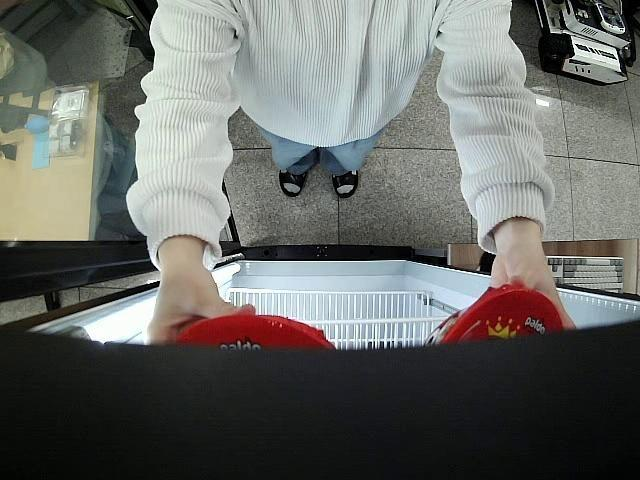10_wangTtukkeong: (420, 290, 560, 344), (172, 314, 336, 351)
